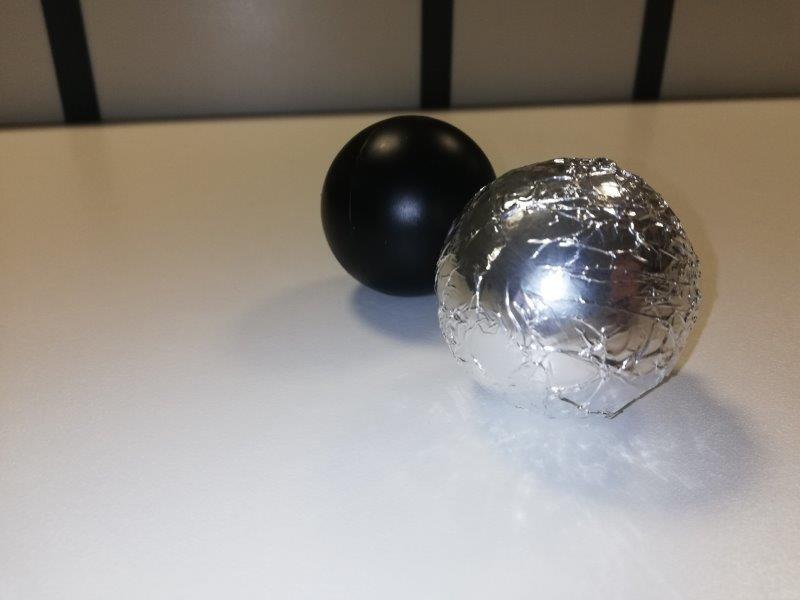bianca: (433, 159, 709, 418)
nera: (317, 115, 496, 298)
